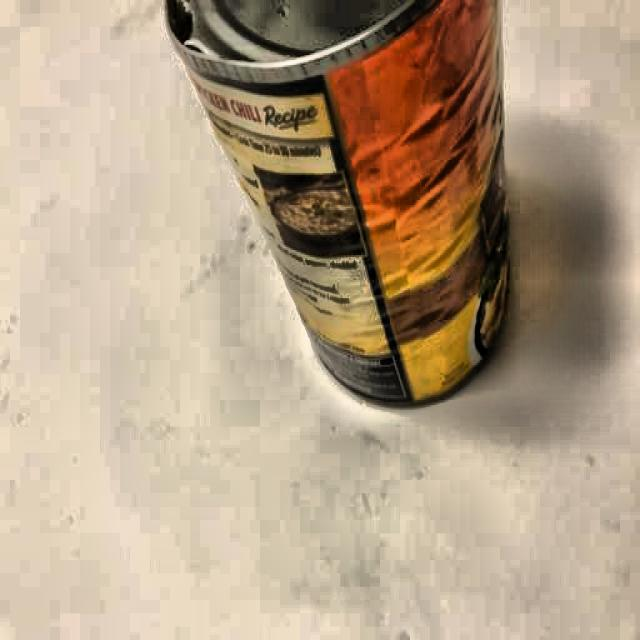metal: (153, 2, 512, 400)
